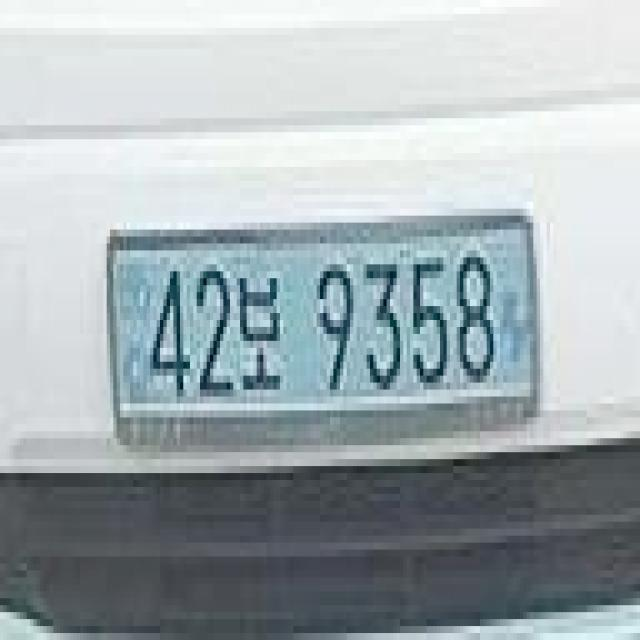EV_plate: (99, 208, 544, 450)
